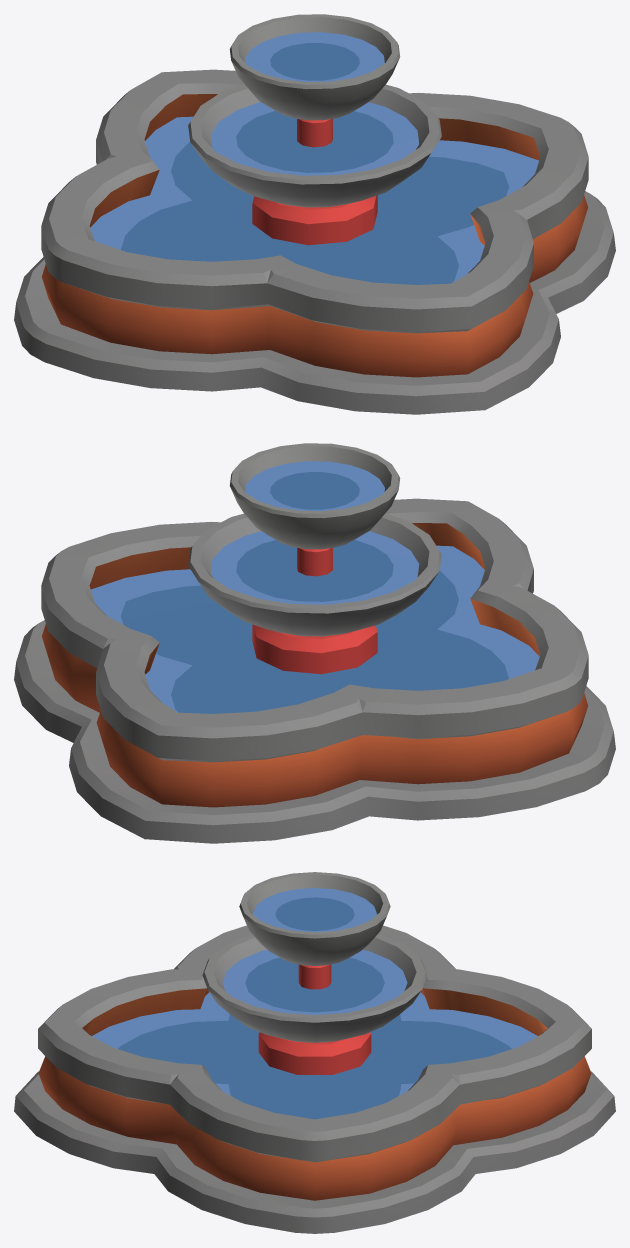
File: Fountain_1_A.fbx
The picture shows the model from 3 angles, top to bottom: view 1: azimuth 30°, elevation 25°; view 2: azimuth 150°, elevation 25°; view 3: azimuth 270°, elevation 25°; orthographic projection. The views are drawn at different scales.
Visible parts, largest first — view 1: Fountain_1_A; view 2: Fountain_1_A; view 3: Fountain_1_A.
Boxes of the visible parts, x1,y1,x2,y2 form: Fountain_1_A: (14, 14, 615, 414); Fountain_1_A: (14, 443, 615, 843); Fountain_1_A: (14, 872, 615, 1233).
Size of the model in its own units: 381 by 151 by 396.
